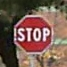stop: (13, 12, 54, 54)
